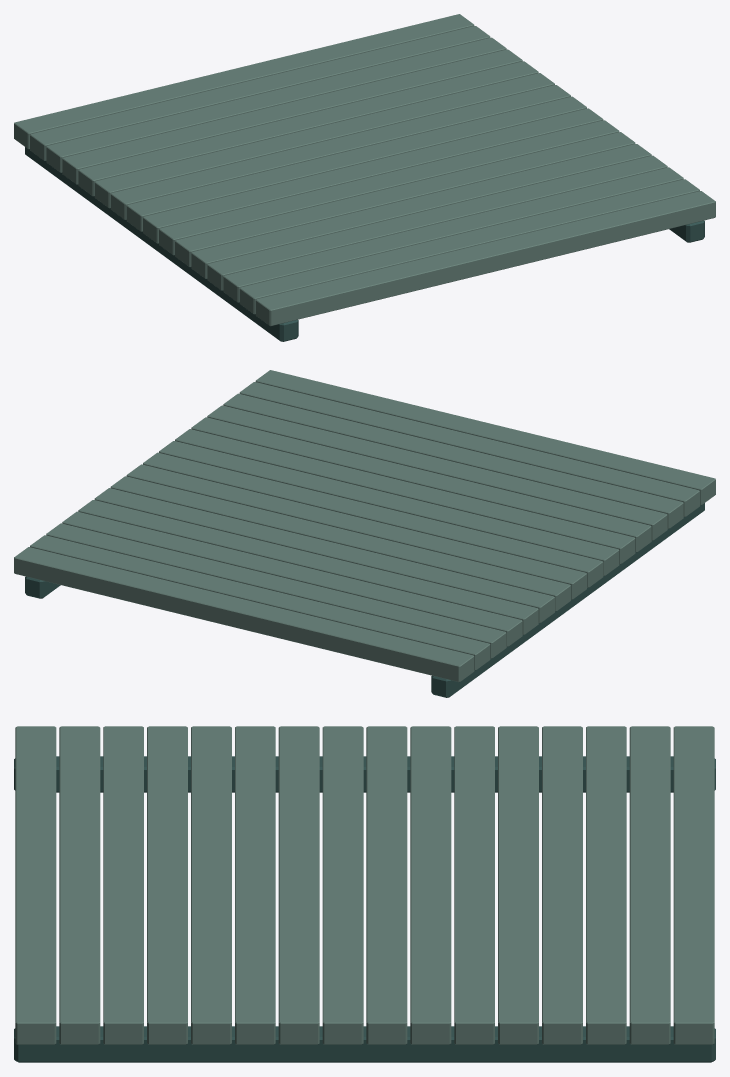
The model's file is bridge-wide.glb.
3 renders of one model, top to bottom at view 1: azimuth 30°, elevation 25°; view 2: azimuth 150°, elevation 25°; view 3: azimuth 270°, elevation 25°, orthographic. The views are drawn at different scales.
Parts seen in each view (by area): view 1: bridge-wide__body; view 2: bridge-wide__body; view 3: bridge-wide__body.
Boxes of the visible parts, x1=… form: bridge-wide__body: x1=14, y1=14, x2=715, y2=341; bridge-wide__body: x1=14, y1=370, x2=715, y2=697; bridge-wide__body: x1=14, y1=726, x2=715, y2=1062.
Size of the model in its own units: 4 by 0.3 by 4.
